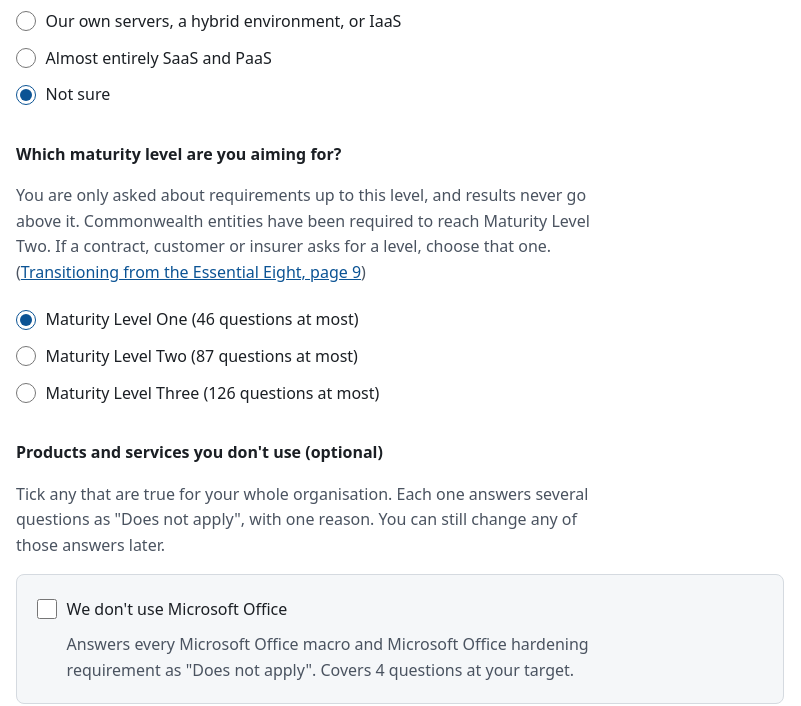
Test: skipping and partial results (D30, D32) › shows an upper bound for an incomplete strategy with a failure, never a level
(page scrolled)
Click the radio button labelled "Maturity Level Two (87 questions at most)": point(26, 356) [16,346,36,366]
(page scrolled)
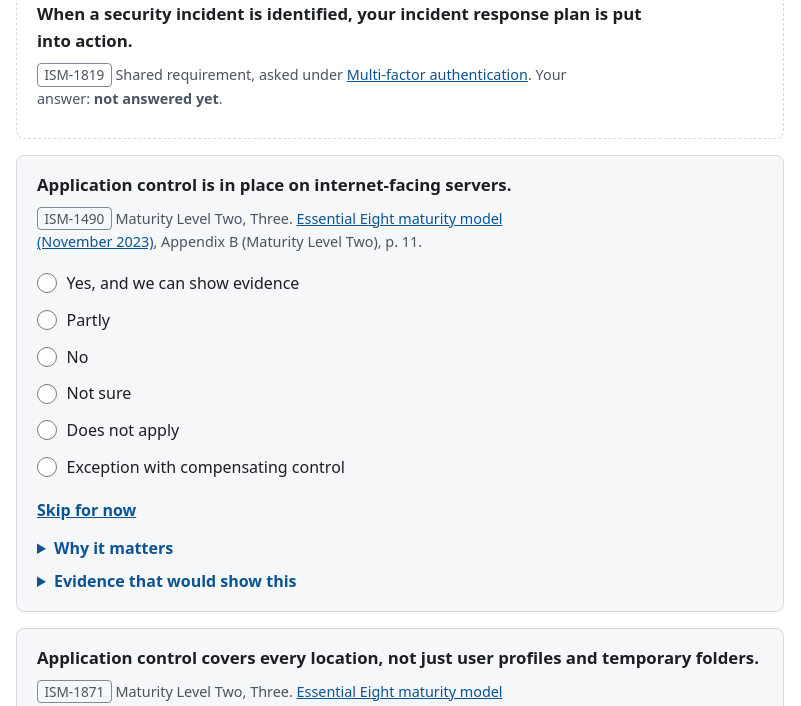
Click the radio button labelled "No": point(47, 357) [37,347,57,367]
(page scrolled)
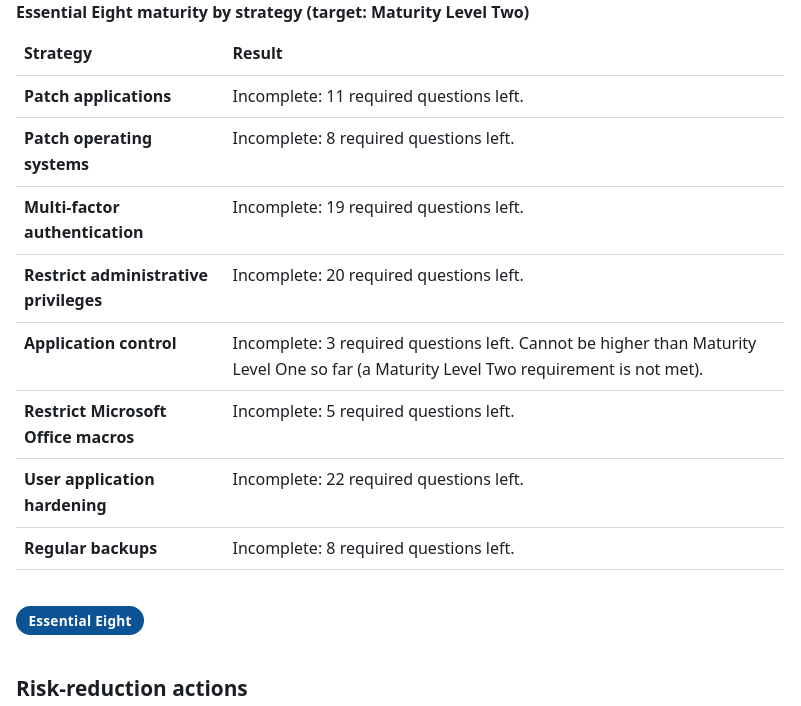
Check: the row "Application control" shows "Incomplete", box [232,332,756,380]
Check: the row "Application control" shows "Cannot be higher than Maturity Level One so far", box [232,332,756,380]
